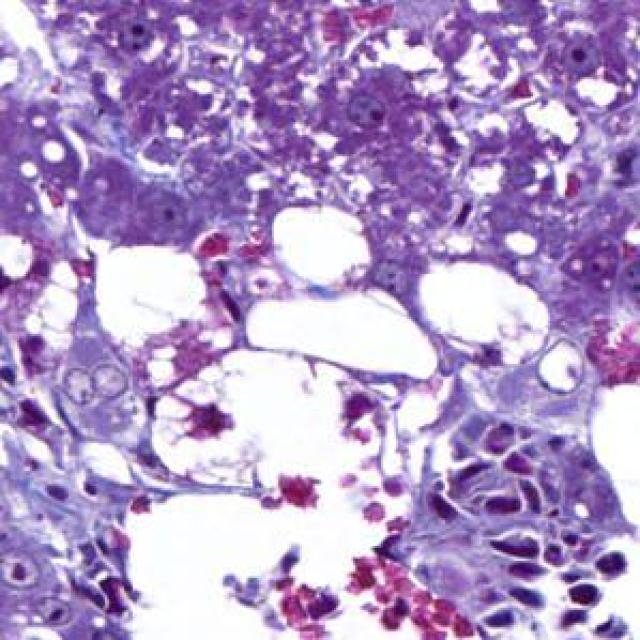ballooning: (148, 342, 398, 499), (413, 252, 559, 376)
